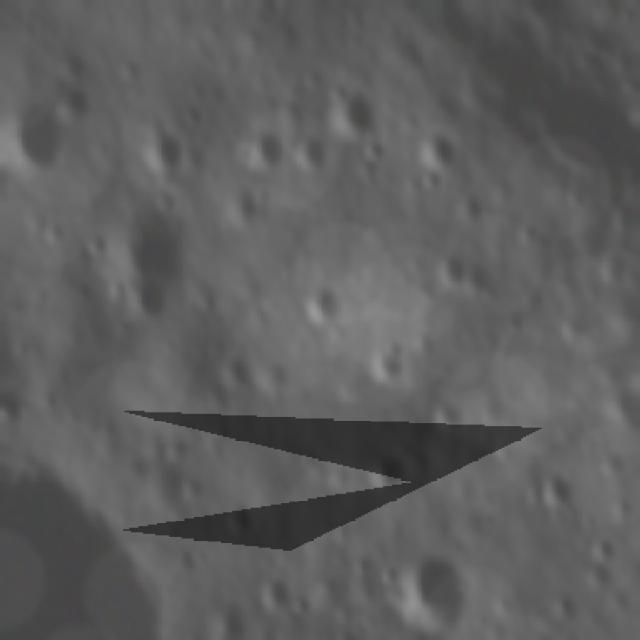crater: (483, 13, 640, 198), (114, 195, 208, 299), (397, 545, 474, 627), (5, 96, 66, 176), (143, 118, 209, 182), (527, 457, 582, 518), (423, 232, 472, 298), (304, 272, 358, 331), (213, 332, 261, 397), (409, 126, 463, 182), (356, 441, 410, 496), (241, 116, 287, 179), (366, 333, 414, 390), (431, 382, 474, 444), (252, 556, 299, 610), (595, 240, 637, 291), (338, 82, 374, 138), (546, 580, 588, 626), (588, 520, 626, 568), (289, 136, 333, 176), (609, 382, 640, 436), (556, 309, 590, 348), (396, 624, 472, 640), (577, 0, 640, 8), (530, 629, 562, 640)
